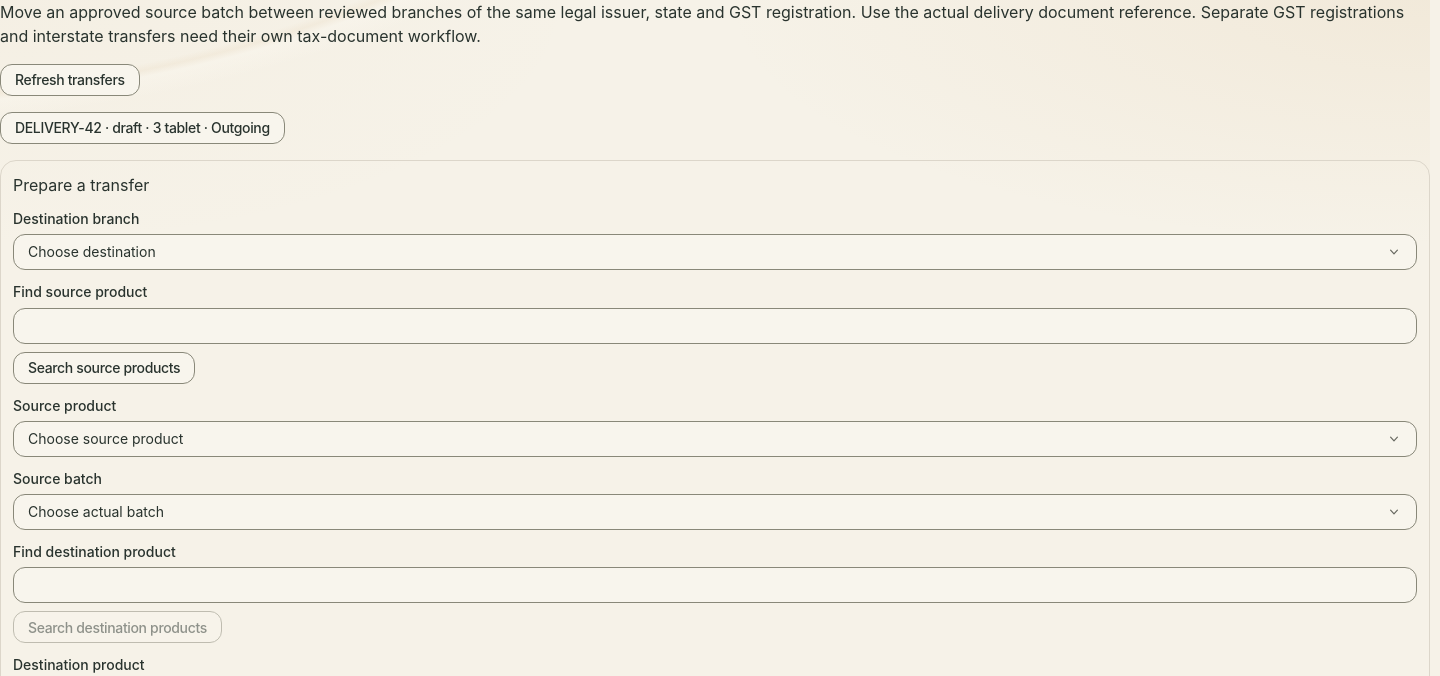
Test: recovers a lost response with its saved stage key and unlocks the next stage only after acknowledgement
Step 1. Click the button "DELIVERY-42 · draft · 3 tablet · Outgoing" → (142, 128), box [0,112,285,144]
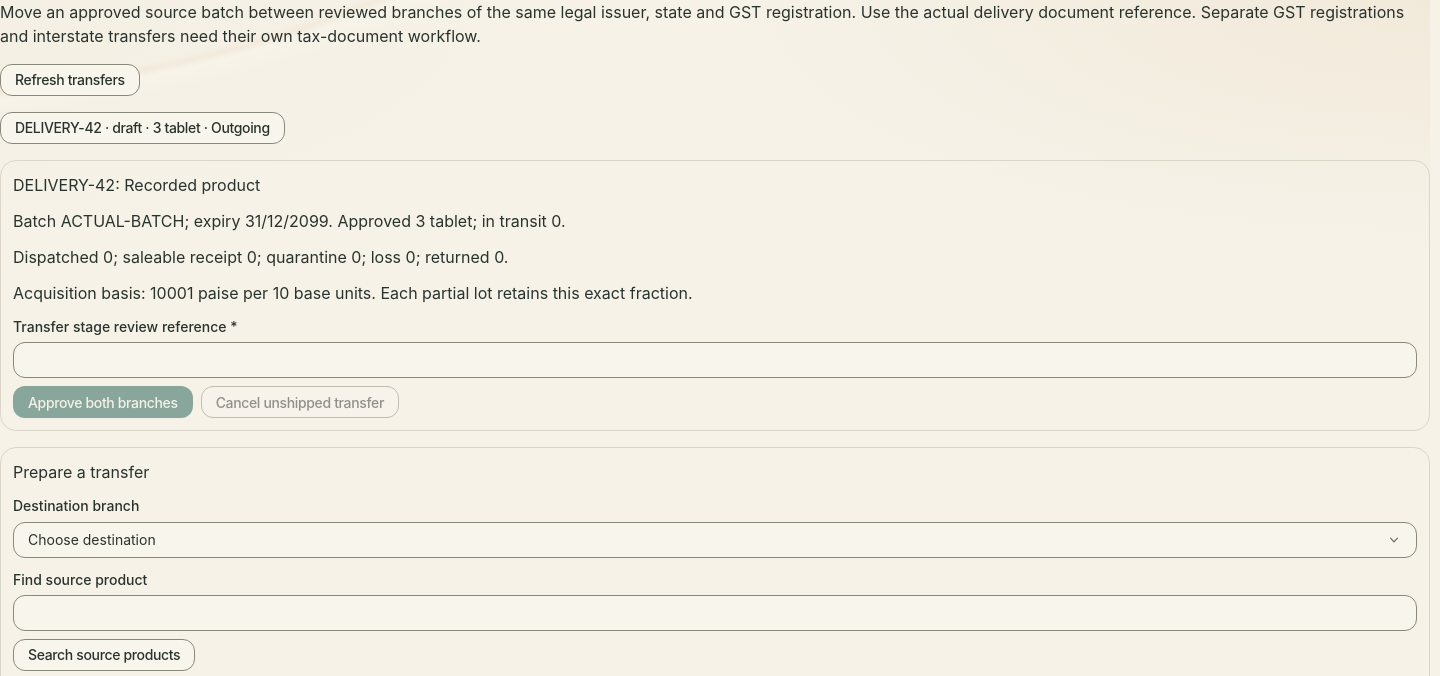
Step 2. Type "Actual branch review 42" into the field labelled "Transfer stage review reference *" → (715, 360), box [13,342,1417,378]
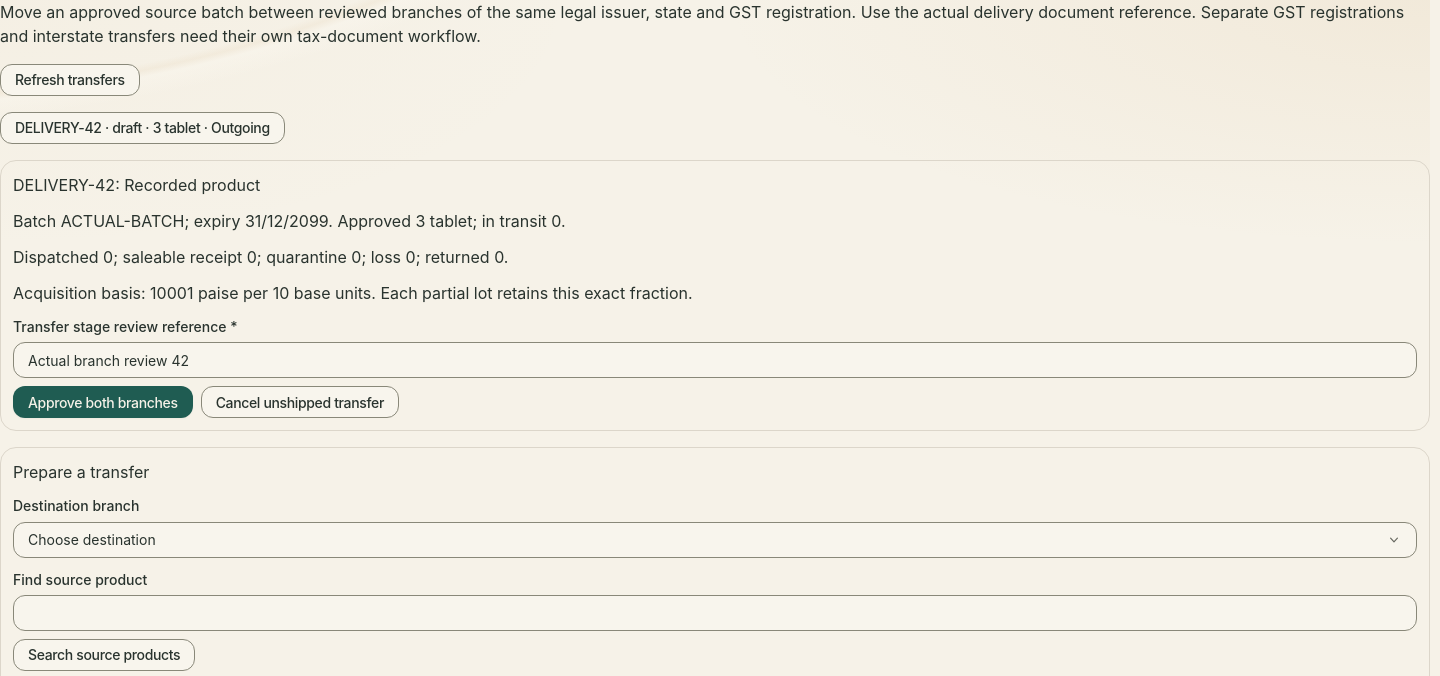
Step 3. Click the button "Approve both branches" → (103, 402), box [13,386,193,418]
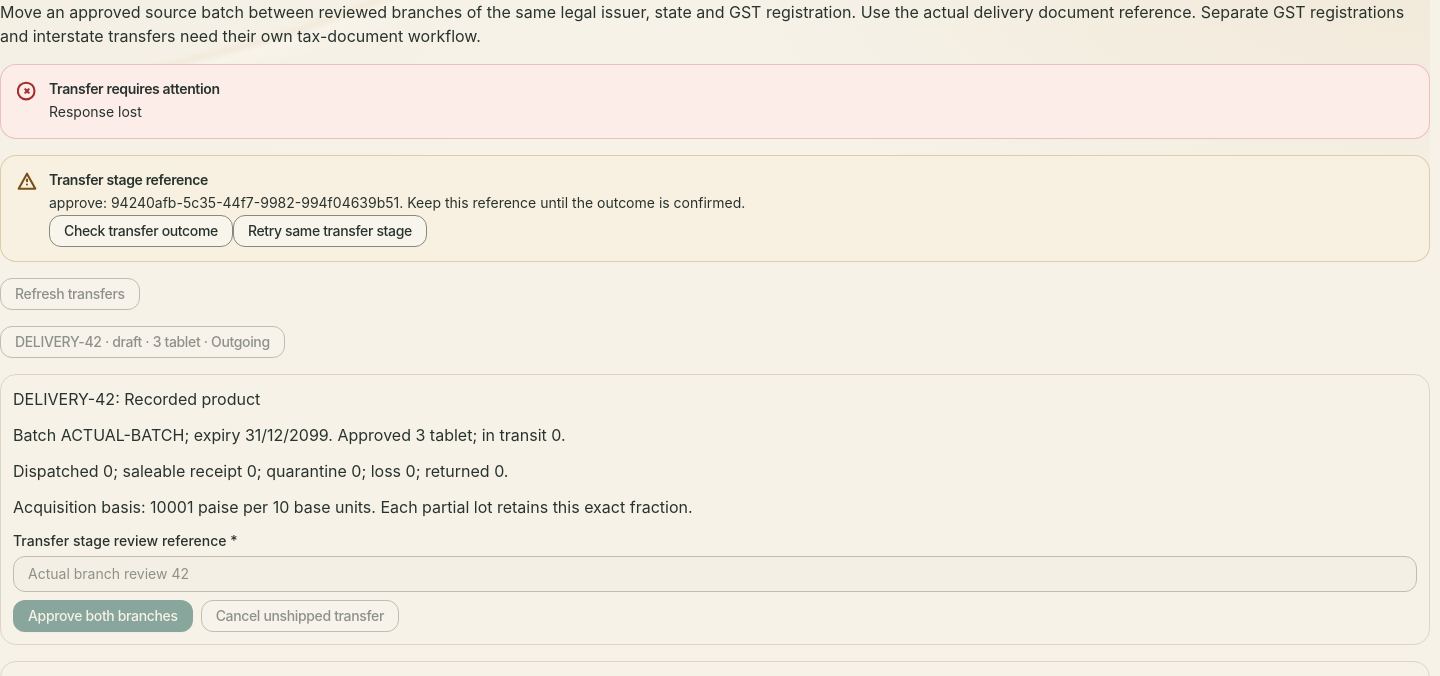
Check: the text "Response lost" is shown, box [49,103,142,120]
Step 4. Click the button "Check transfer outcome" → (141, 230), box [49,214,233,246]
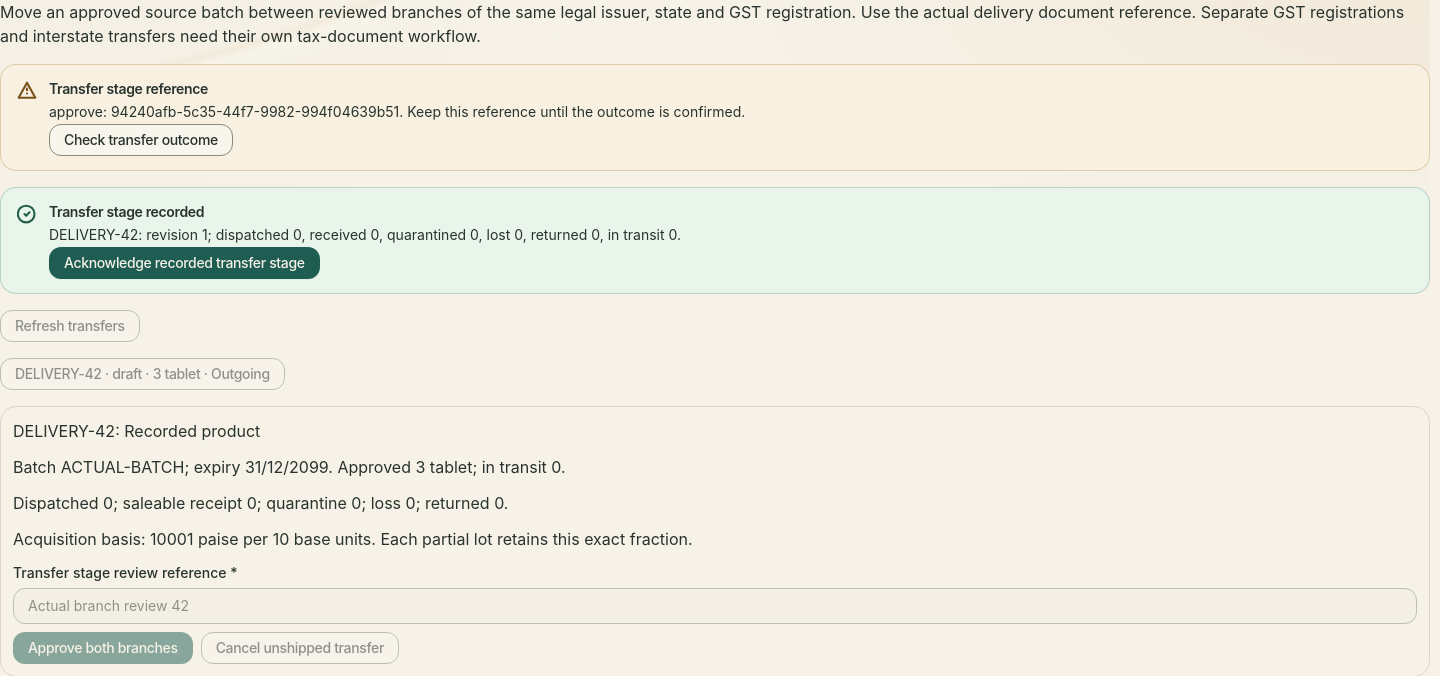
Check: the button "Approve both branches" is disabled, box [13,632,193,664]
Check: the text "Transfer stage recorded" is shown, box [49,203,204,220]
Step 5. Click the button "Acknowledge recorded transfer stage" → (184, 262), box [49,246,320,278]
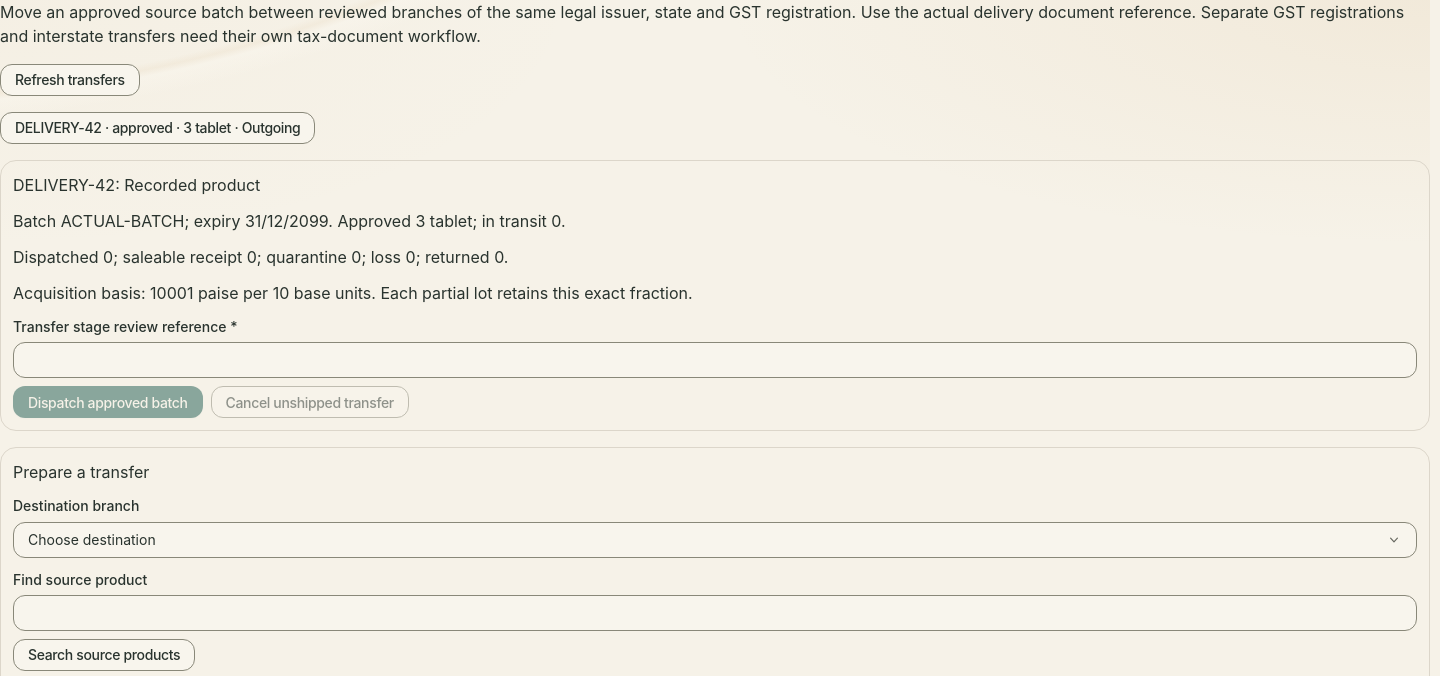
Check: the button "Dispatch approved batch" is shown, box [13,386,203,418]
